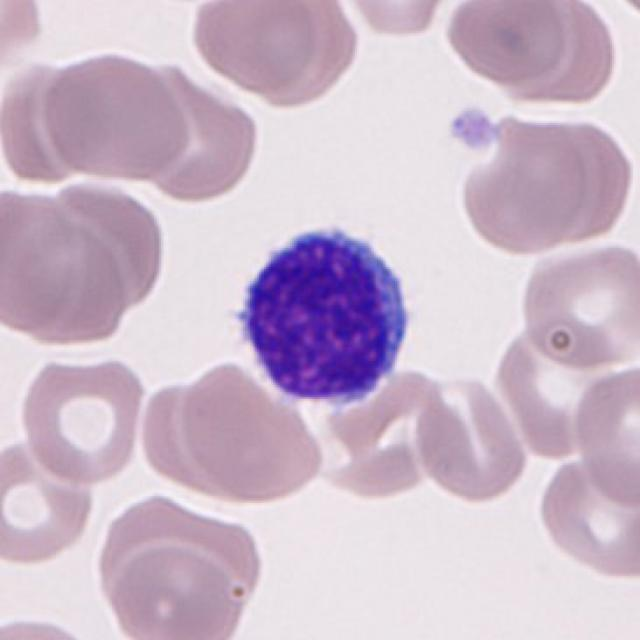Lymphocyte: (222, 213, 425, 413)
Platelets: (444, 104, 500, 154)
RBC: (87, 484, 264, 623), (175, 354, 329, 506), (491, 317, 633, 463), (24, 177, 164, 323), (39, 49, 192, 182), (316, 361, 464, 498), (121, 66, 260, 205), (455, 118, 589, 258), (15, 348, 148, 488), (474, 2, 622, 116), (411, 369, 532, 506), (516, 238, 638, 371), (133, 369, 252, 502), (0, 180, 94, 339), (528, 114, 637, 250), (100, 541, 246, 640), (239, 0, 367, 109), (534, 453, 638, 581), (0, 435, 98, 569), (187, 0, 324, 94), (0, 55, 94, 189), (440, 0, 573, 88), (568, 363, 640, 508), (315, 434, 432, 501), (338, 0, 462, 40), (0, 0, 49, 75), (0, 610, 101, 640), (593, 0, 640, 23)
